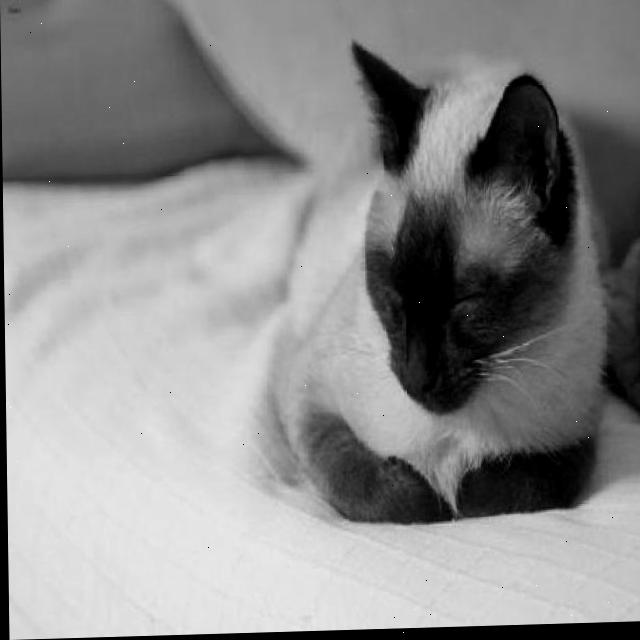Cat: (268, 32, 612, 531)
